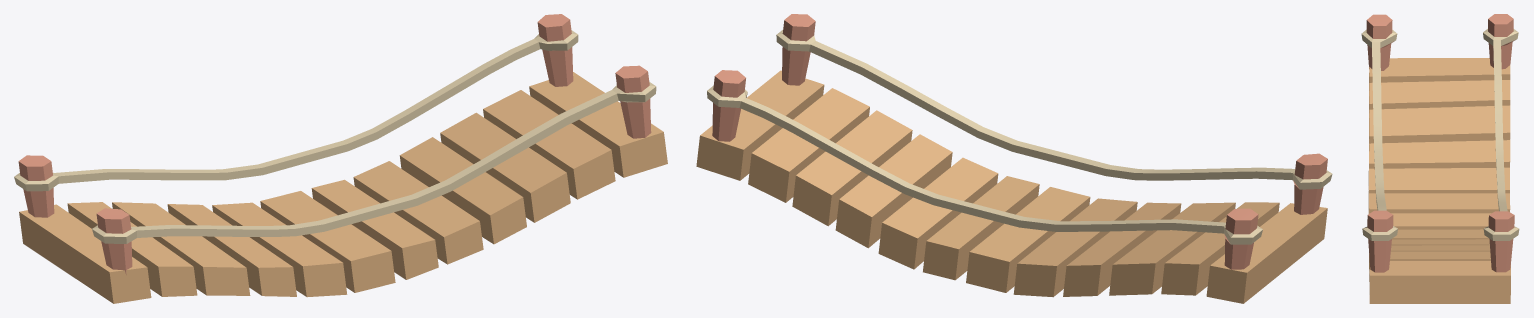
Rendered from bridge.fbx.
3 renders of one model, left to right at view 1: azimuth 30°, elevation 25°; view 2: azimuth 150°, elevation 25°; view 3: azimuth 270°, elevation 25°, orthographic. The views are drawn at different scales.
Parts seen in each view (by area): view 1: polySurface14, polySurface13, polySurface1, polySurface10, polySurface11, polySurface9, polySurface8, polySurface12, polySurface6, polySurface7, polySurface5, polySurface3 (+2 smaller); view 2: polySurface14, polySurface13, polySurface10, polySurface11, polySurface9, polySurface1, polySurface8, polySurface12, polySurface6, polySurface7, polySurface5, polySurface3 (+2 smaller); view 3: polySurface12, polySurface3, polySurface14, polySurface13, polySurface4, polySurface2, polySurface5, polySurface1, polySurface6, polySurface7, polySurface11, polySurface8 (+2 smaller).
Part boxes in pixels (bbox=[...]): polySurface14: bbox=[92, 65, 656, 274]; polySurface13: bbox=[14, 14, 578, 217]; polySurface1: bbox=[19, 204, 151, 303]; polySurface10: bbox=[440, 112, 570, 222]; polySurface11: bbox=[483, 90, 615, 199]; polySurface9: bbox=[399, 137, 526, 244]; polySurface8: bbox=[353, 161, 483, 264]; polySurface12: bbox=[529, 72, 667, 177]; polySurface6: bbox=[260, 191, 395, 292]; polySurface7: bbox=[311, 179, 438, 279]; polySurface5: bbox=[212, 202, 347, 297]; polySurface3: bbox=[112, 202, 250, 295]; polySurface14: bbox=[776, 14, 1332, 214]; polySurface13: bbox=[707, 70, 1262, 269]; polySurface10: bbox=[792, 110, 912, 226]; polySurface11: bbox=[748, 88, 869, 202]; polySurface9: bbox=[835, 134, 952, 248]; polySurface1: bbox=[1206, 203, 1327, 303]; polySurface8: bbox=[878, 157, 998, 269]; polySurface12: bbox=[696, 70, 824, 180]; polySurface6: bbox=[966, 187, 1090, 292]; polySurface7: bbox=[923, 176, 1039, 280]; polySurface5: bbox=[1013, 198, 1137, 297]; polySurface3: bbox=[1109, 202, 1235, 295]; polySurface12: bbox=[1369, 261, 1510, 303]; polySurface3: bbox=[1369, 105, 1510, 144]; polySurface14: bbox=[1361, 14, 1397, 272]; polySurface13: bbox=[1483, 14, 1519, 272]; polySurface4: bbox=[1368, 140, 1510, 189]; polySurface2: bbox=[1369, 80, 1510, 117]; polySurface5: bbox=[1368, 167, 1509, 213]; polySurface1: bbox=[1369, 58, 1510, 95]; polySurface6: bbox=[1369, 193, 1510, 213]; polySurface7: bbox=[1391, 213, 1491, 229]; polySurface11: bbox=[1369, 251, 1490, 281]; polySurface8: bbox=[1369, 229, 1489, 257].
Bounding box in the file's own units: 38.15 × 9.57 × 11.24.
